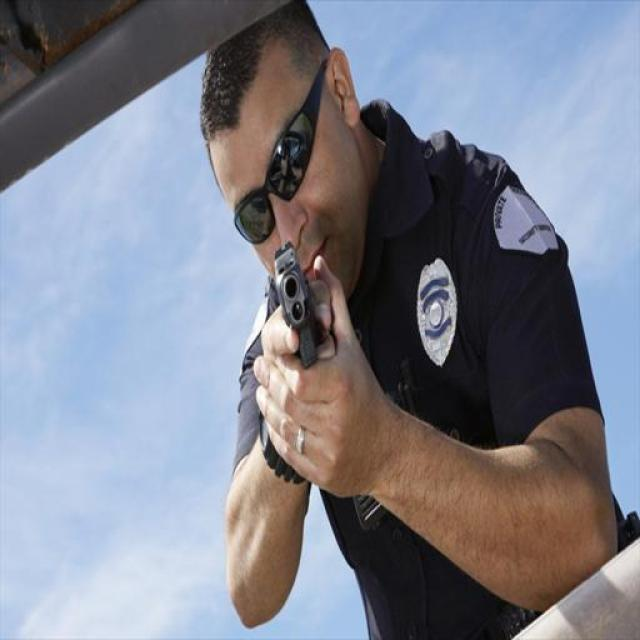pistol: (270, 236, 324, 368)
